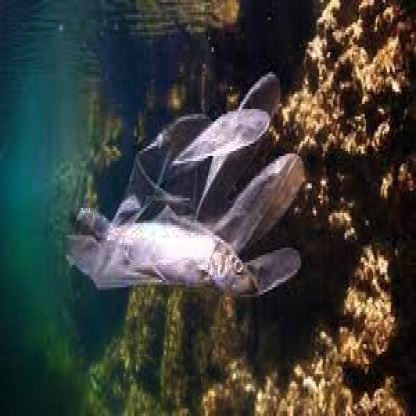glove: (58, 72, 304, 304)
